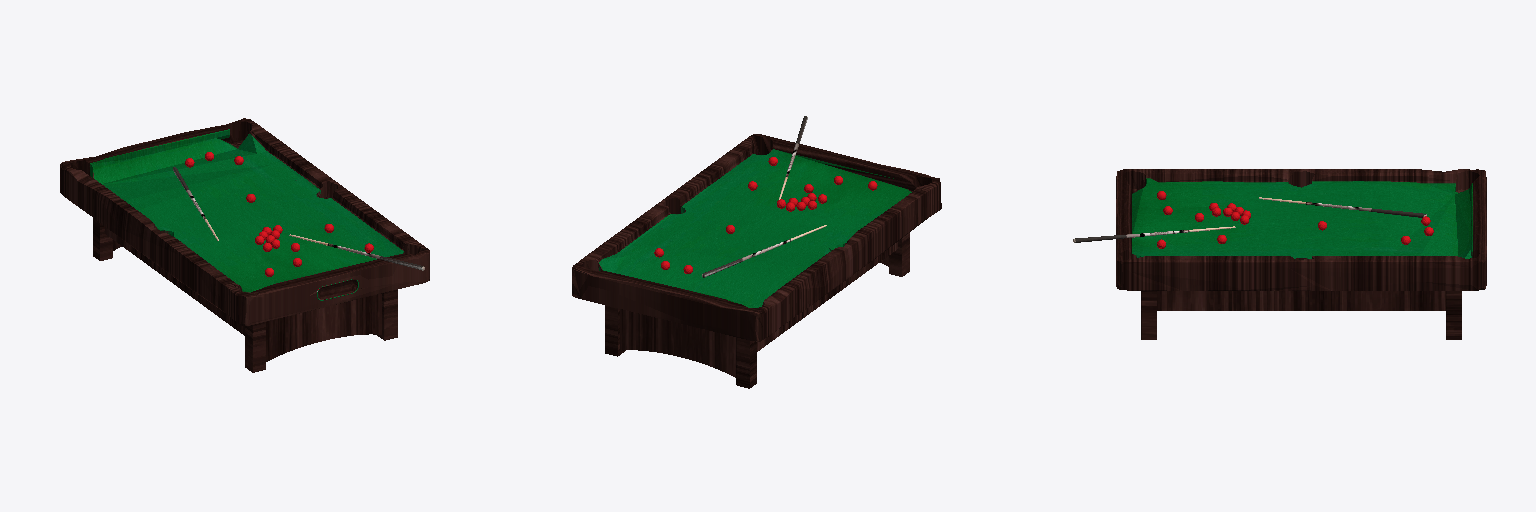
3 renders of one model, left to right at view 1: azimuth 30°, elevation 25°; view 2: azimuth 150°, elevation 25°; view 3: azimuth 270°, elevation 25°, orthographic.
Parts seen in each view (by area): view 1: polySurface34 polySurface1, polySurface1 polySurface56, polySurface1 polySurface59, polySurface1 polySurface55, polySurface1 polySurface57, polySurface1 polySurface58; view 2: polySurface34 polySurface1, polySurface1 polySurface66, polySurface1 polySurface59, polySurface1 polySurface58, polySurface1 polySurface63, polySurface1 polySurface55; view 3: polySurface34 polySurface1, polySurface1 polySurface64, polySurface1 polySurface57, polySurface1 polySurface63.
Boxes of the visible parts, <box> form: polySurface34 polySurface1: <box>60,118,429,325</box>; polySurface1 polySurface56: <box>266,294,381,361</box>; polySurface1 polySurface59: <box>105,227,244,335</box>; polySurface1 polySurface55: <box>245,322,265,372</box>; polySurface1 polySurface57: <box>377,290,397,340</box>; polySurface1 polySurface58: <box>93,218,112,260</box>; polySurface34 polySurface1: <box>572,134,941,341</box>; polySurface1 polySurface66: <box>620,309,735,377</box>; polySurface1 polySurface59: <box>757,242,897,351</box>; polySurface1 polySurface58: <box>736,337,756,388</box>; polySurface1 polySurface63: <box>605,305,625,356</box>; polySurface1 polySurface55: <box>889,233,909,276</box>; polySurface34 polySurface1: <box>1116,169,1486,290</box>; polySurface1 polySurface64: <box>1157,291,1445,310</box>; polySurface1 polySurface57: <box>1141,291,1156,339</box>; polySurface1 polySurface63: <box>1446,291,1461,339</box>.
Bounding box in the file's own units: 16 × 7.82 × 29.97.
Materials: 1 (1 with a texture image).